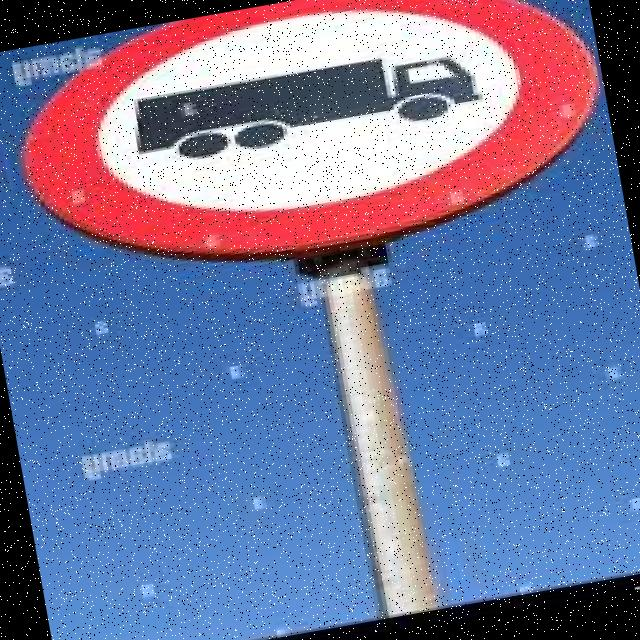do_not_enter: (0, 0, 619, 301)
